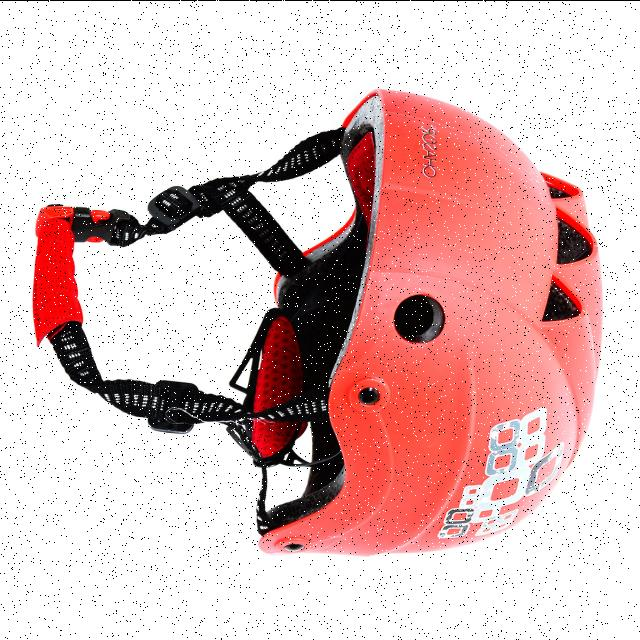Helmet: (34, 89, 602, 555)
